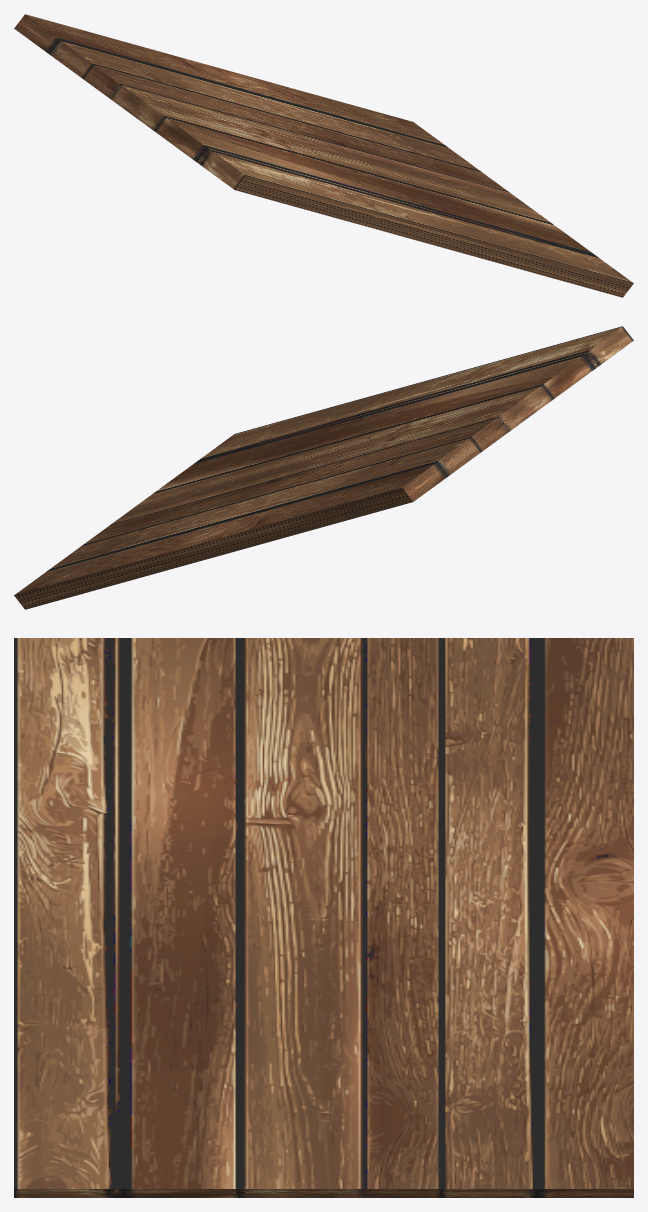
The model's file is ramp.glb.
3 views of the same model, one above another, from view 1: azimuth 30°, elevation 25°; view 2: azimuth 150°, elevation 25°; view 3: azimuth 270°, elevation 25° (orthographic). The views are drawn at different scales.
Parts seen in each view (by area): view 1: Ramp; view 2: Ramp; view 3: Ramp.
Part boxes in pixels (left/top/right/bottom): Ramp: left=14, top=14, right=633, bottom=297; Ramp: left=14, top=326, right=633, bottom=609; Ramp: left=14, top=638, right=633, bottom=1197.
Bounding box in the file's own units: 2.09 × 1.07 × 2.
1 material, 1 textured.
